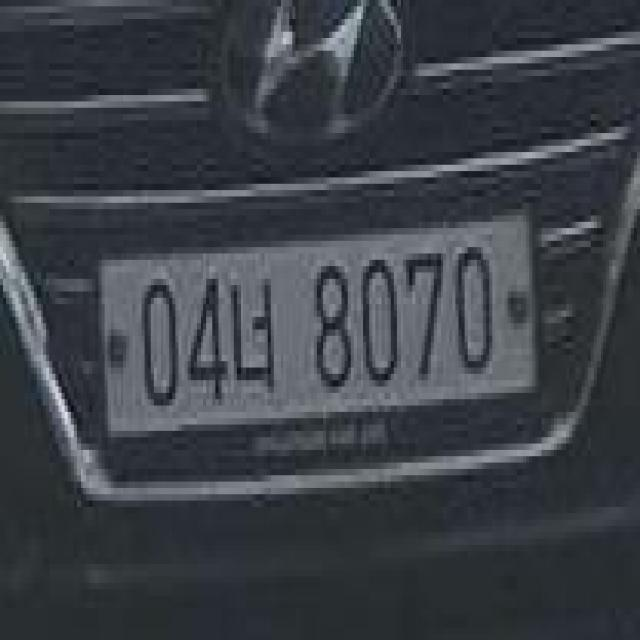illegal_plate: (90, 207, 543, 472)
